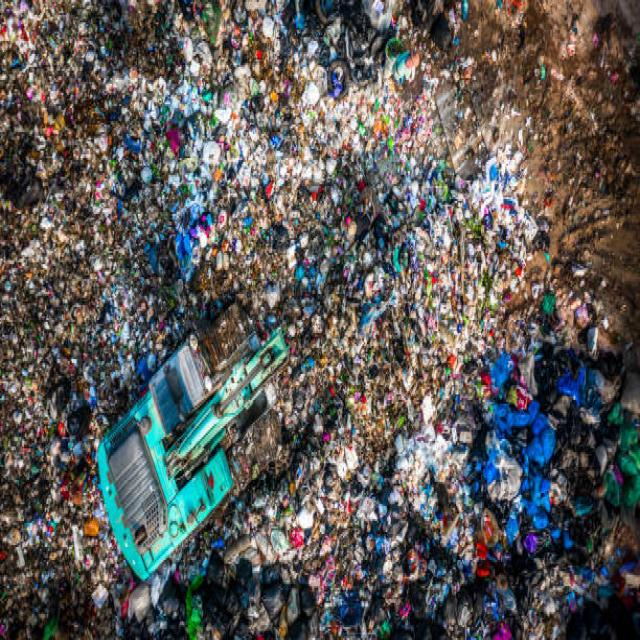plastic: (323, 249, 575, 556), (46, 112, 324, 275)
